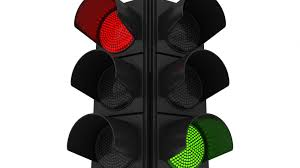red: (79, 1, 147, 167), (96, 2, 139, 167)
